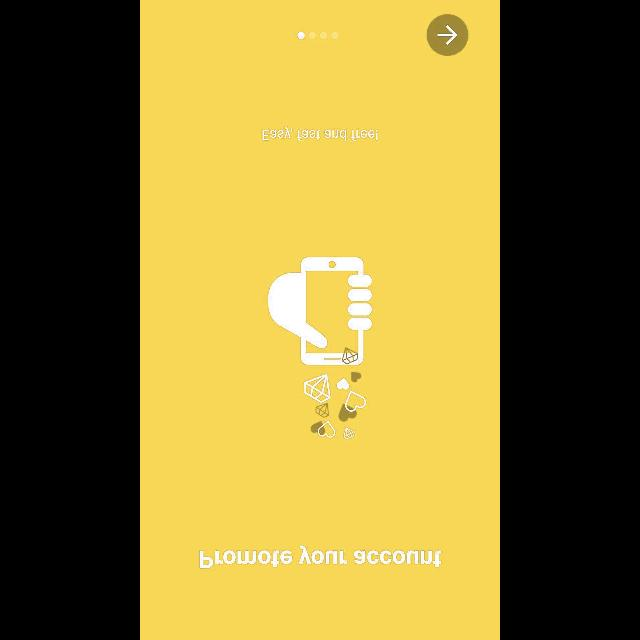button: (427, 14, 469, 56)
image: (268, 257, 372, 439)
pageindicator: (297, 31, 339, 39)
text: (199, 544, 441, 568), (262, 127, 378, 141)
